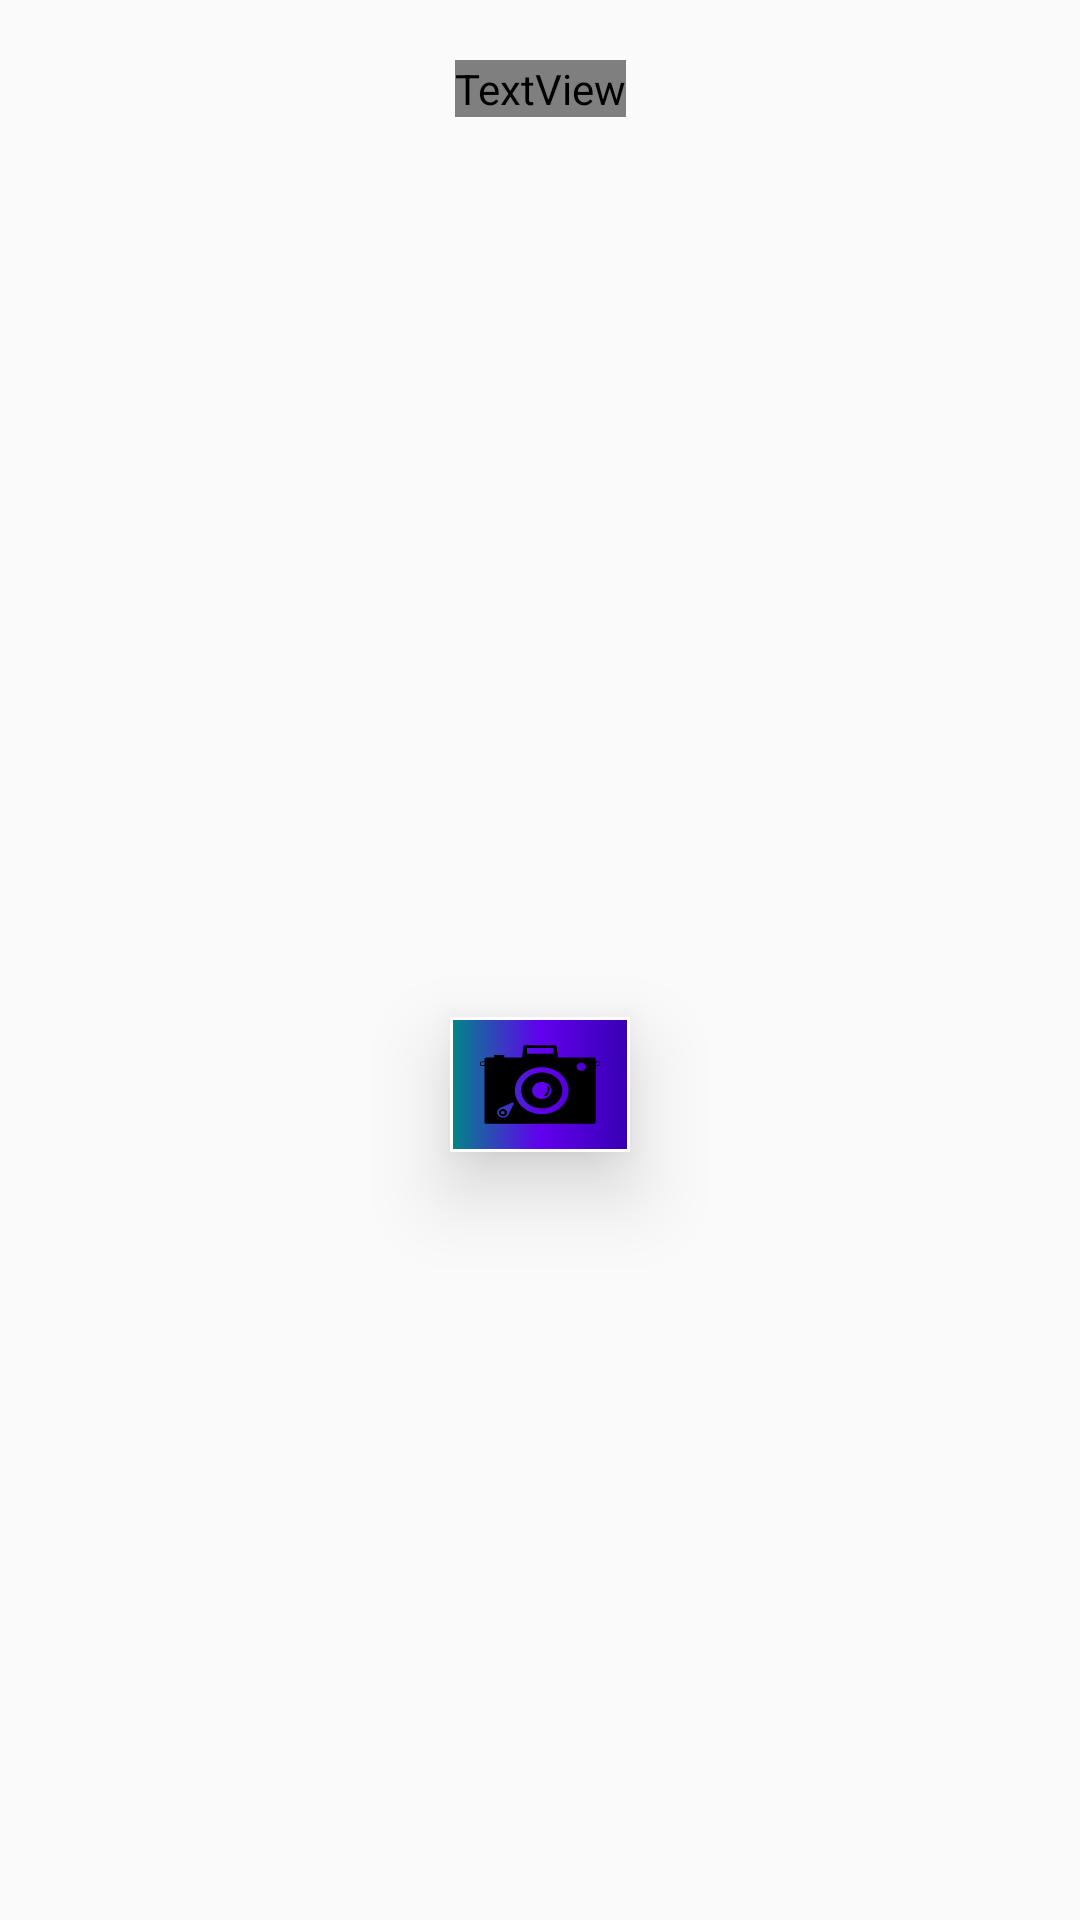

Named icons in this screenshot (1080px×1920px) and their bounding boxes, detection(x1, y1, x2, y2):
camera: detection(450, 1017, 630, 1152)
